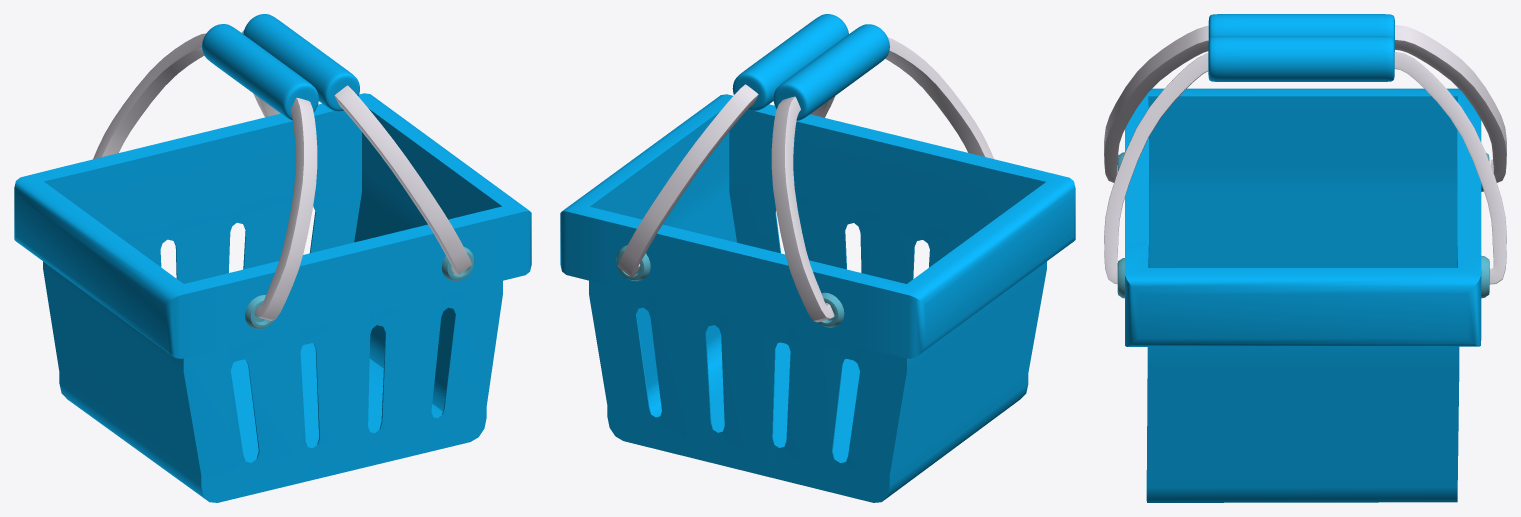
File: basket2.fbx
The picture shows the model from 3 angles, left to right: view 1: azimuth 30°, elevation 25°; view 2: azimuth 150°, elevation 25°; view 3: azimuth 270°, elevation 25°; orthographic projection. The views are drawn at different scales.
Visible parts, largest first — view 1: Cube; view 2: Cube; view 3: Cube.
Boxes of the visible parts, x1,y1,x2,y2 form: Cube: [14, 14, 531, 502]; Cube: [560, 14, 1075, 502]; Cube: [1104, 14, 1506, 502].
Bounding box in the file's own units: 300 × 291 × 259.
